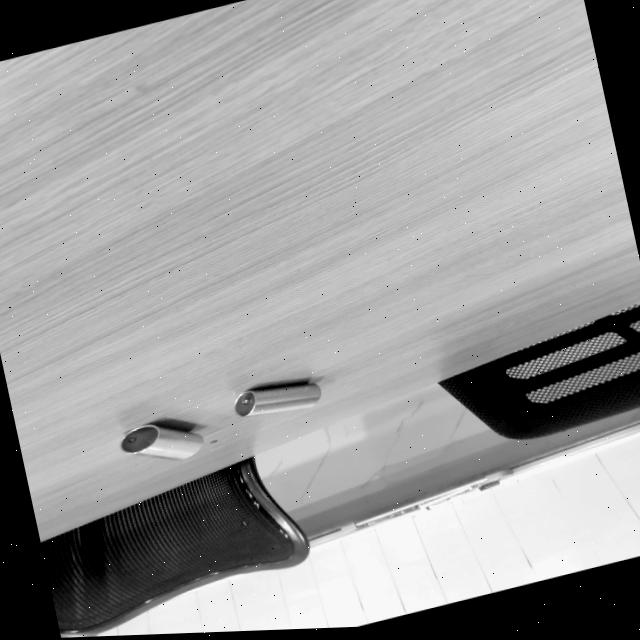Co_Lon: (119, 418, 204, 468)
Co_Nho: (233, 381, 322, 417)
